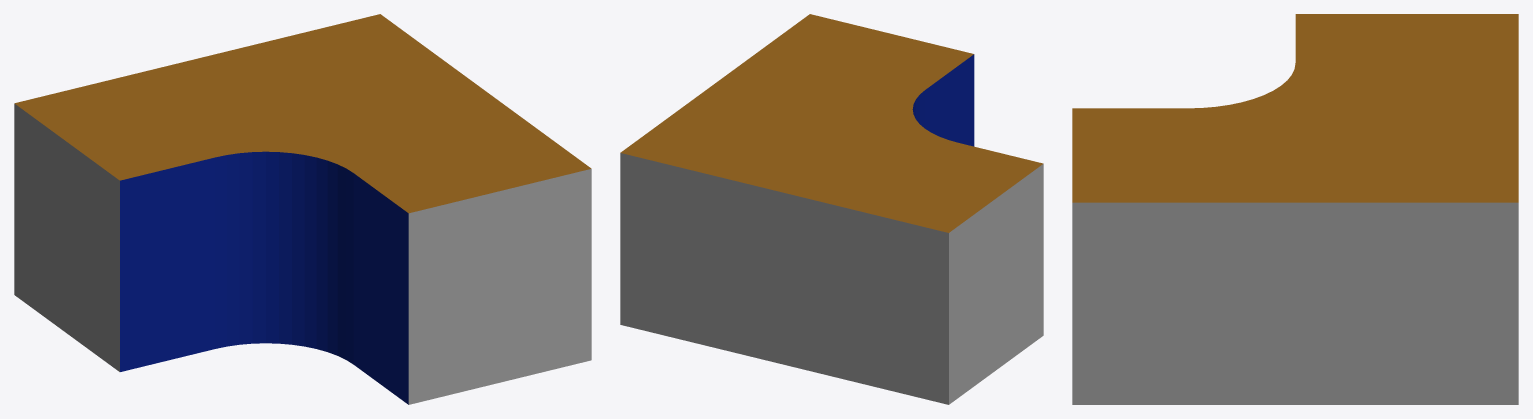
The model's file is case_7.fbx.
3 views of the same model, side by side, from view 1: azimuth 30°, elevation 25°; view 2: azimuth 150°, elevation 25°; view 3: azimuth 270°, elevation 25° (orthographic). The views are drawn at different scales.
Parts seen in each view (by area): view 1: case_7; view 2: case_7; view 3: case_7.
Part boxes in pixels (box(x1,y1,x2,y2)): case_7: box(14, 14, 591, 404); case_7: box(620, 14, 1043, 404); case_7: box(1072, 14, 1518, 404).
Bounding box in the file's own units: 1 × 0.5 × 1.
